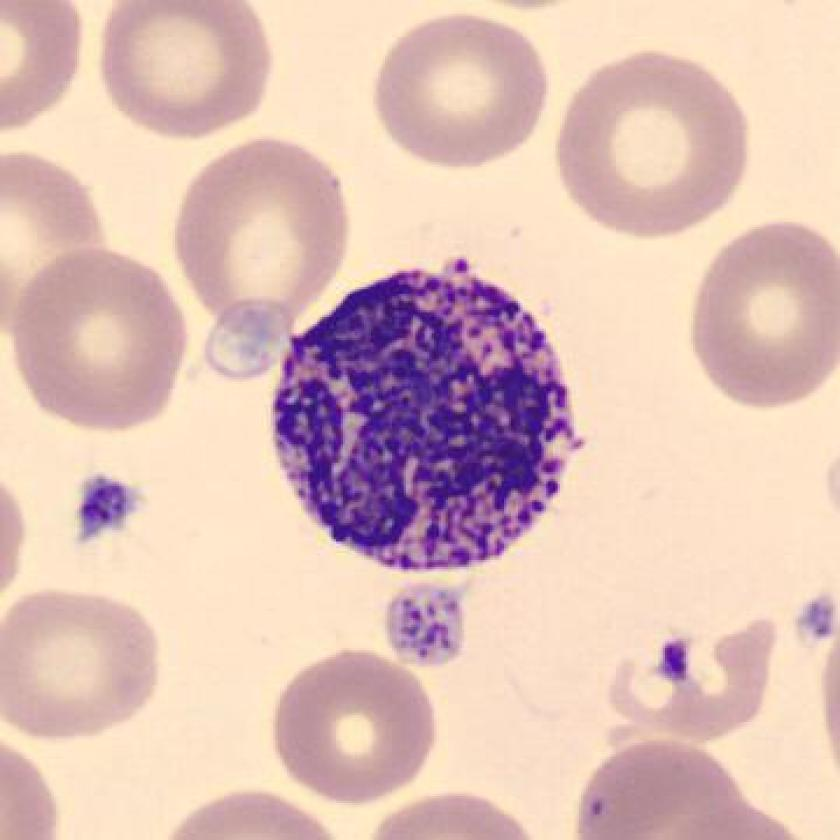basophil: (265, 256, 601, 580)
